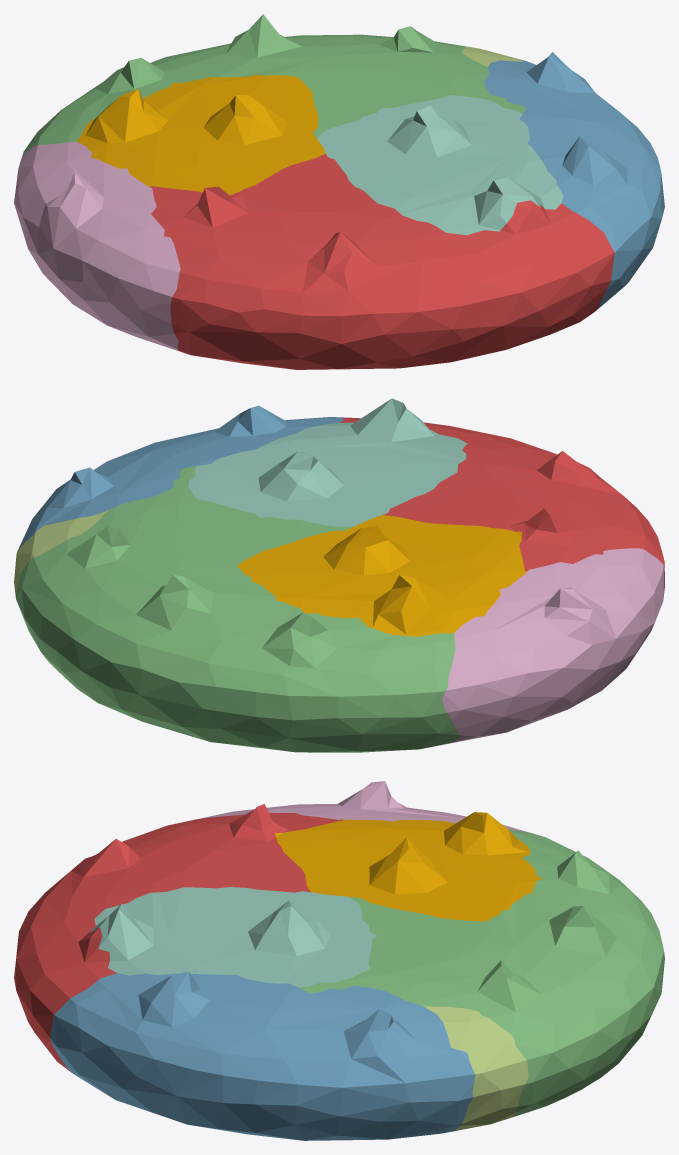
File: mode_8_8pcs.glb
3 renders of one model, top to bottom at view 1: azimuth 30°, elevation 25°; view 2: azimuth 150°, elevation 25°; view 3: azimuth 270°, elevation 25°, orthographic.
Visible parts, largest first — view 1: piece_1.obj, piece_3.obj, piece_6.obj, piece_4.obj, piece_0.obj, piece_2.obj, piece_5.obj; view 2: piece_3.obj, piece_6.obj, piece_0.obj, piece_4.obj, piece_1.obj, piece_2.obj, piece_5.obj; view 3: piece_2.obj, piece_3.obj, piece_1.obj, piece_4.obj, piece_0.obj, piece_5.obj, piece_6.obj.
Boxes of the visible parts, box(x1,y1,x2,y2) form: piece_1.obj: box(150, 153, 614, 369); piece_3.obj: box(23, 14, 526, 153); piece_6.obj: box(14, 141, 180, 350); piece_4.obj: box(316, 95, 563, 235); piece_0.obj: box(77, 75, 325, 194); piece_2.obj: box(484, 52, 664, 309); piece_5.obj: box(461, 46, 523, 67); piece_3.obj: box(15, 466, 460, 752); piece_6.obj: box(442, 548, 664, 743); piece_0.obj: box(237, 515, 526, 636); piece_4.obj: box(188, 398, 467, 526); piece_1.obj: box(340, 417, 664, 590); piece_2.obj: box(18, 405, 344, 548); piece_5.obj: box(14, 510, 108, 594); piece_2.obj: box(50, 971, 474, 1140); piece_3.obj: box(299, 829, 664, 1116); piece_1.obj: box(14, 804, 342, 1072); piece_4.obj: box(89, 887, 376, 987); piece_0.obj: box(275, 812, 542, 921); piece_5.obj: box(423, 1006, 528, 1130); piece_6.obj: box(197, 781, 527, 832).
Bounding box in the file's own units: 0.9983 × 0.2496 × 1.
